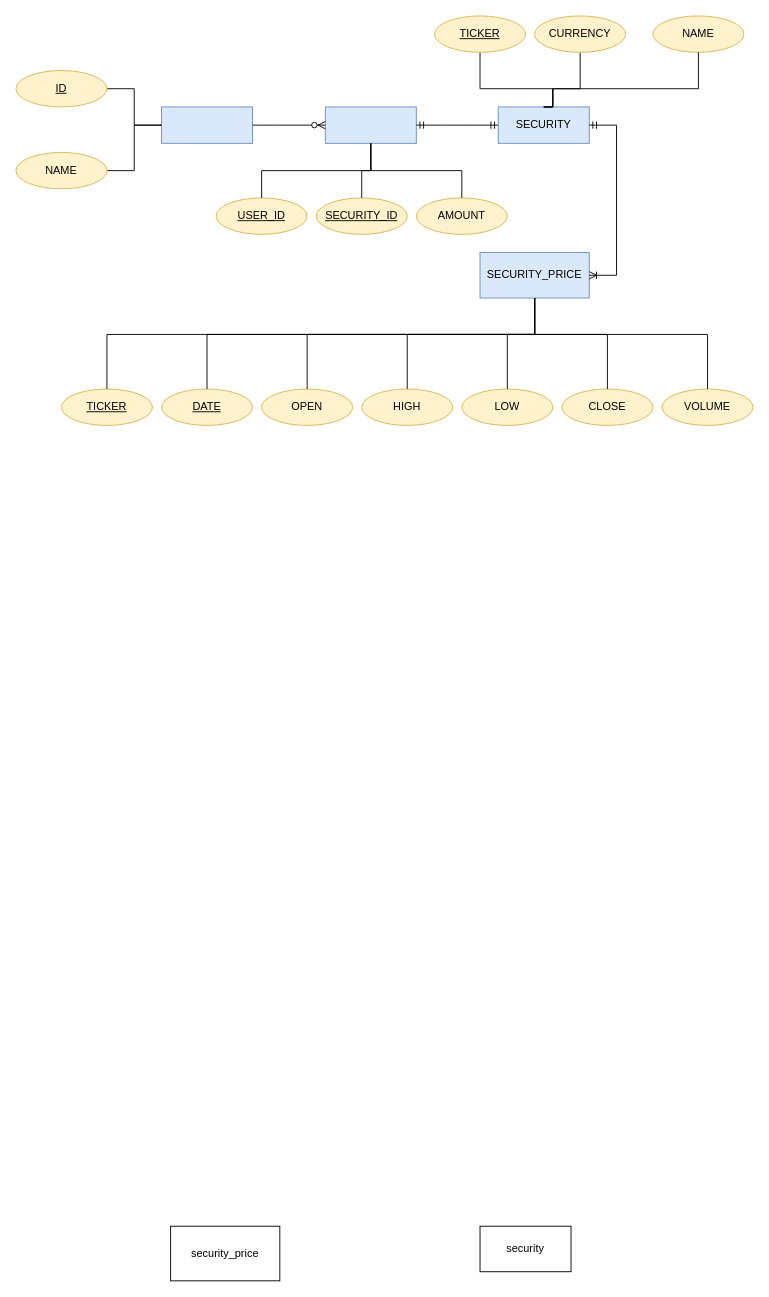
Some shapes in this 769 by 1297 pixel diagram are drawn without their labels. Each missing label, with the box of its shape:
INVESTMENT: (324, 106, 416, 143)
USER: (161, 106, 253, 143)
